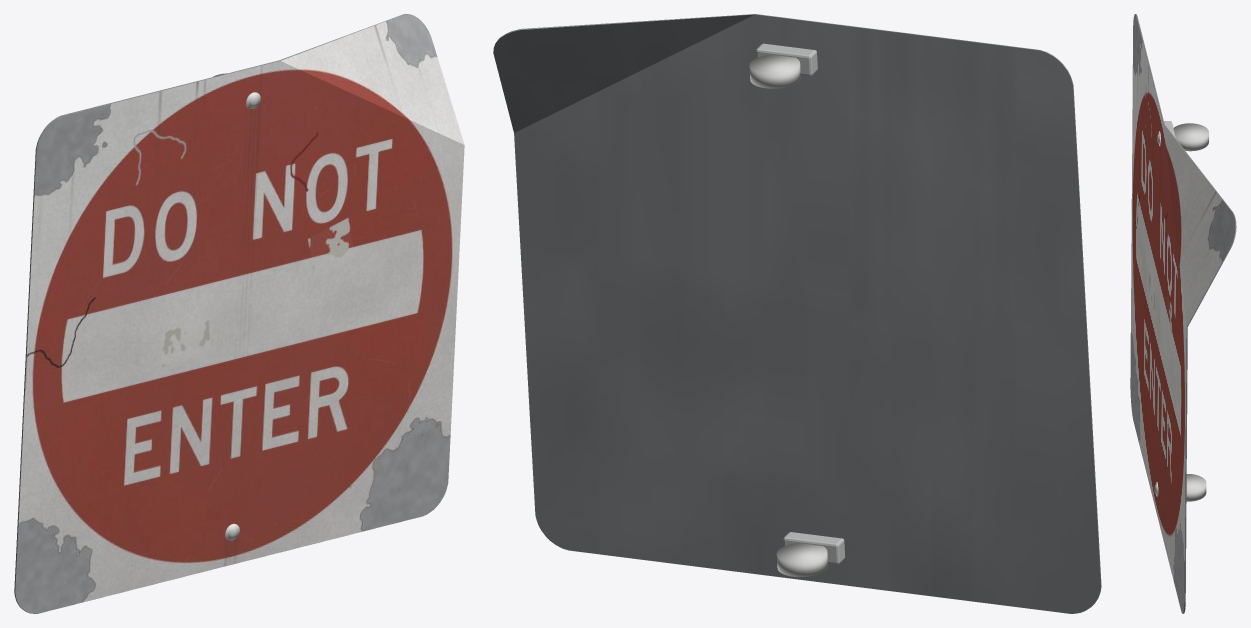
Rendered from doNotEnter-v1-battered.glb.
3 renders of one model, left to right at view 1: azimuth 30°, elevation 25°; view 2: azimuth 150°, elevation 25°; view 3: azimuth 270°, elevation 25°, orthographic. The views are drawn at different scales.
Visible parts, largest first — view 1: doNotEnter-v1-battered; view 2: doNotEnter-v1-battered; view 3: doNotEnter-v1-battered.
Boxes of the visible parts, x1=… form: doNotEnter-v1-battered: x1=14, y1=14, x2=464, y2=613; doNotEnter-v1-battered: x1=493, y1=14, x2=1101, y2=613; doNotEnter-v1-battered: x1=1130, y1=14, x2=1236, y2=613.
Size of the model in its own units: 0.7842 by 0.7984 by 0.1763.
1 material, 1 textured.
